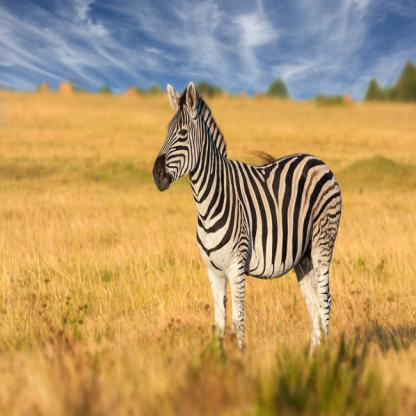zebra: (149, 83, 349, 375)
